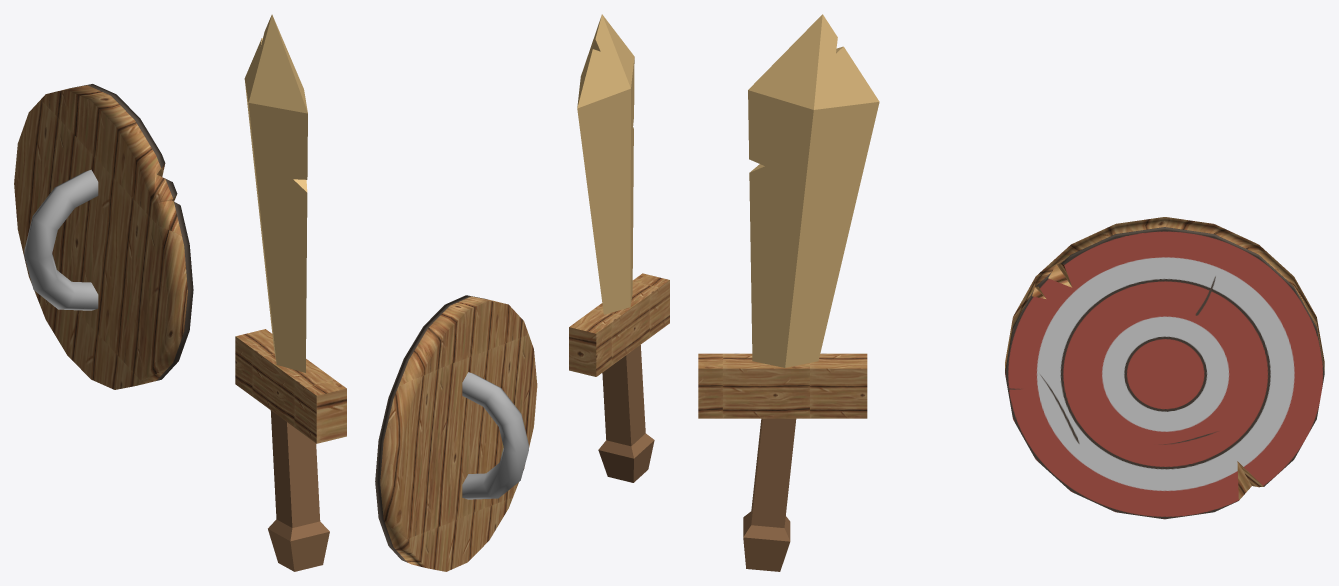
Rendered from оружие дамми.fbx.
3 views of the same model, side by side, from view 1: azimuth 30°, elevation 25°; view 2: azimuth 150°, elevation 25°; view 3: azimuth 270°, elevation 25° (orthographic). The views are drawn at different scales.
Parts seen in each view (by area): view 1: Цилиндр.012, Куб.006; view 2: Цилиндр.012, Куб.006; view 3: Цилиндр.012, Куб.006.
Part boxes in pixels (box(x1,y1,x2,y2)): Цилиндр.012: box(14, 84, 193, 389); Куб.006: box(235, 14, 346, 571); Цилиндр.012: box(375, 295, 537, 571); Куб.006: box(569, 14, 669, 482); Цилиндр.012: box(1005, 217, 1324, 519); Куб.006: box(698, 14, 879, 571).
Size of the model in its own units: 90.84 by 414 by 427.
5 materials, 2 textured.
